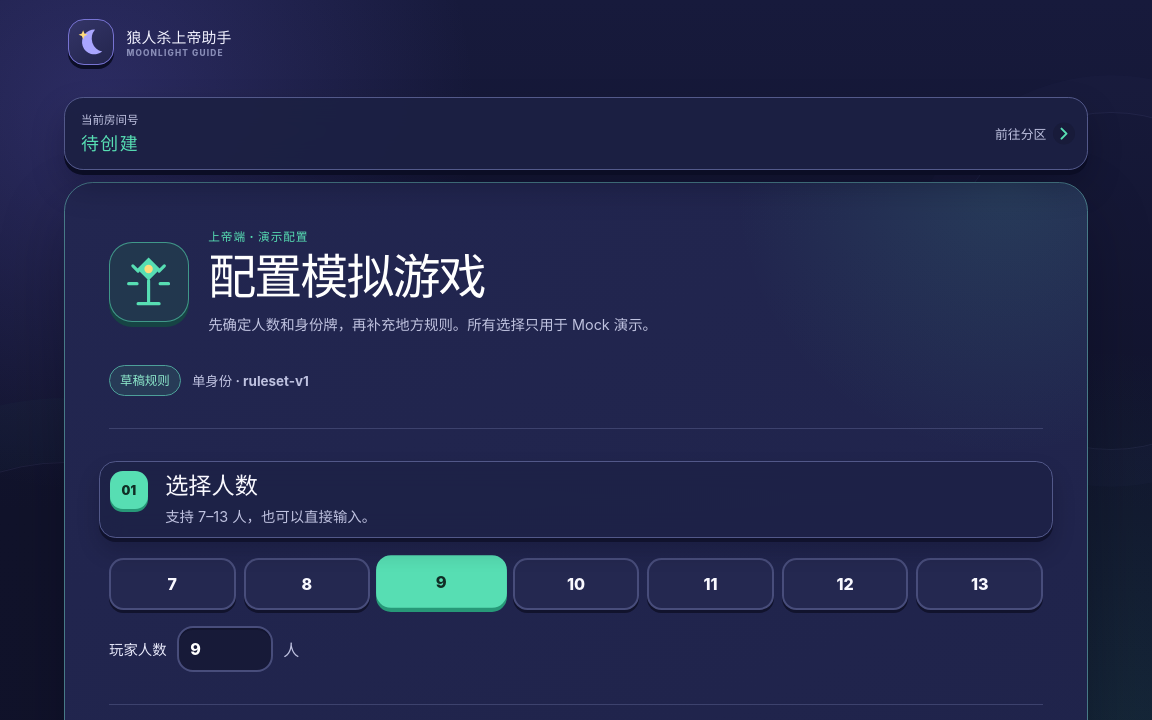
Test: 上帝 Mock 流程 › 可以通过快捷按钮或输入框选择 7 到 13 人
Expected: the heading "配置模拟游戏" is shown, x1=208 y1=247 x2=485 y2=306
Click the button "12" at (845, 584), box x1=782 y1=558 x2=908 y2=610
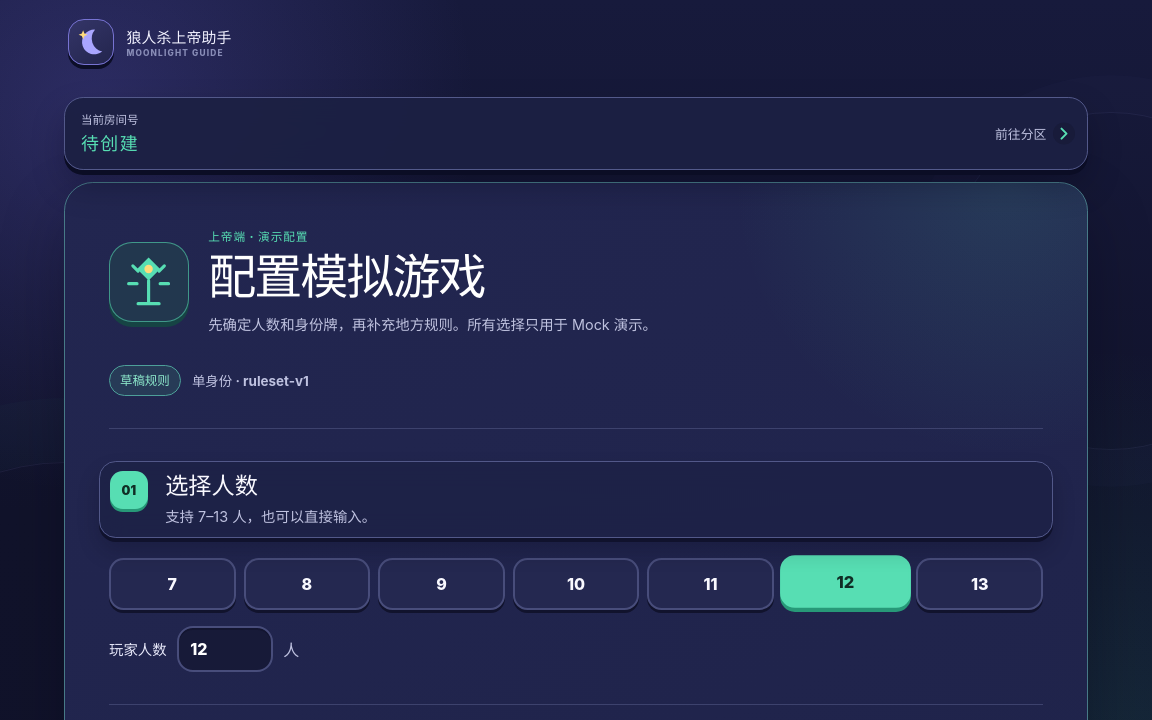
Result: the number field labelled "玩家人数" holds "12"
Replace the text in the number field labelled "玩家人数" with "14" at (225, 649), box x1=177 y1=626 x2=273 y2=672
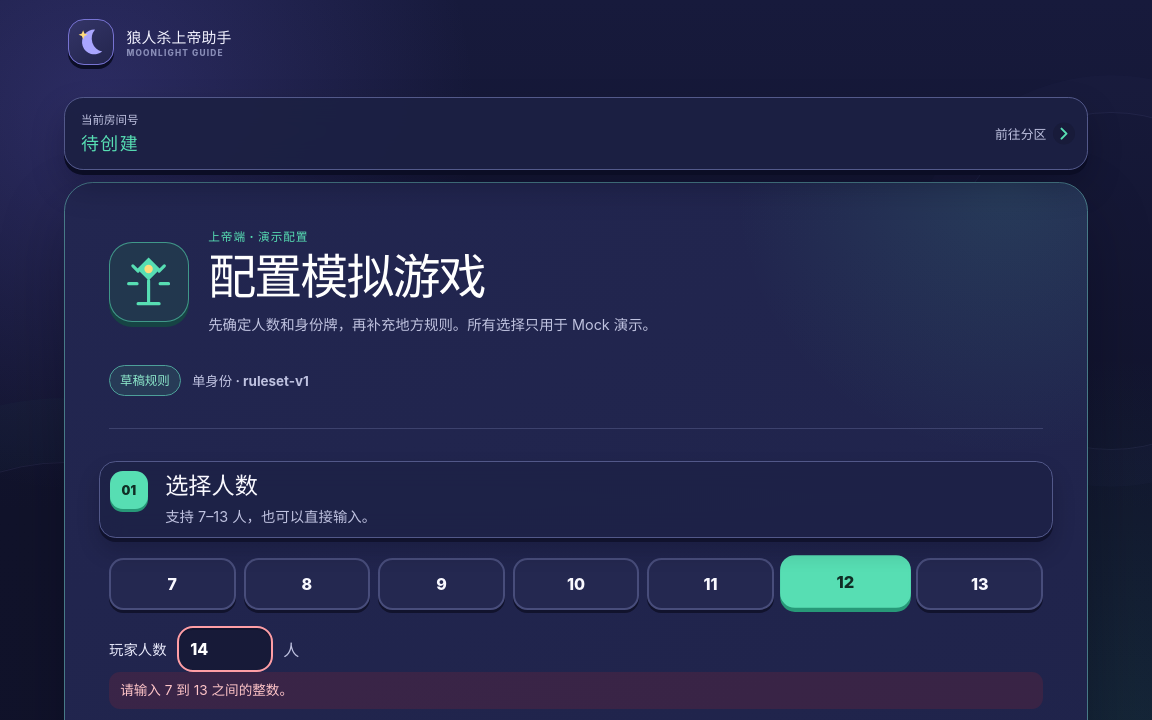
Result: the text "请输入 7 到 13 之间的整数。" is shown at x1=109 y1=672 x2=1043 y2=709
